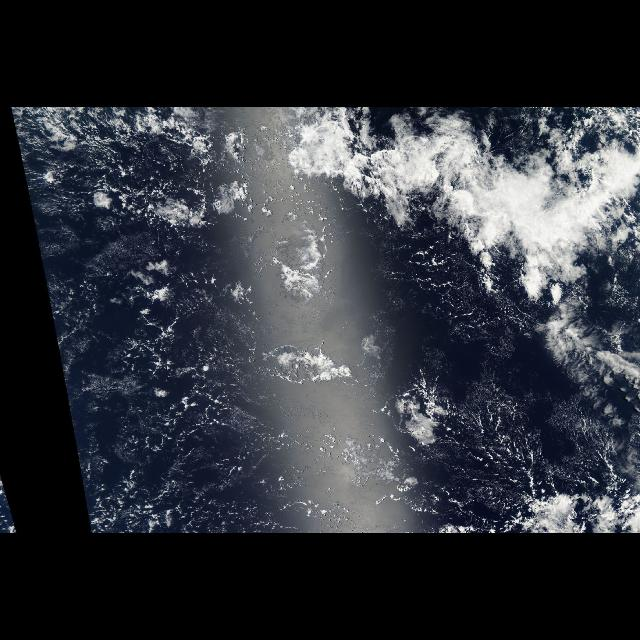Gravel: (7, 111, 337, 534), (1, 473, 18, 533)
